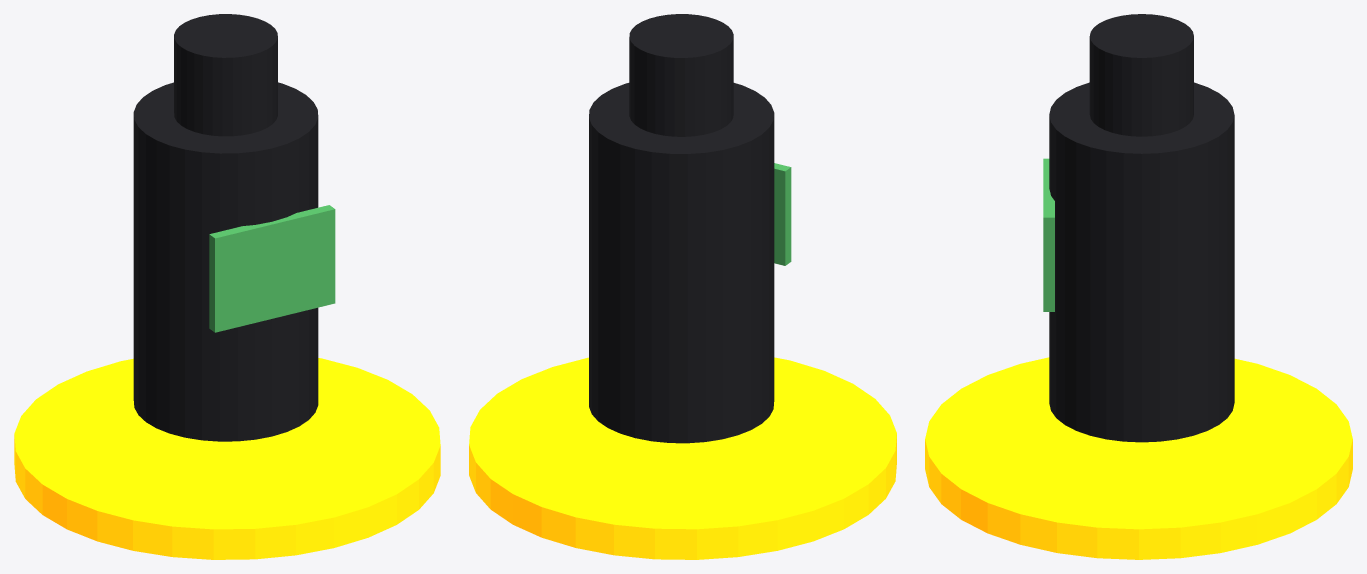
Rendered from fitness_shaker_bottle.glb.
3 renders of one model, left to right at view 1: azimuth 30°, elevation 25°; view 2: azimuth 150°, elevation 25°; view 3: azimuth 270°, elevation 25°, orthographic.
Visible parts, largest first — view 1: 02_03_Popular_Fitness_Shaker_Bottle_ROOT_base, 02_03_Popular_Fitness_Shaker_Bottle_part_01, 02_03_Popular_Fitness_Shaker_Bottle_part_03, 02_03_Popular_Fitness_Shaker_Bottle_part_02; view 2: 02_03_Popular_Fitness_Shaker_Bottle_part_01, 02_03_Popular_Fitness_Shaker_Bottle_ROOT_base, 02_03_Popular_Fitness_Shaker_Bottle_part_02, 02_03_Popular_Fitness_Shaker_Bottle_part_03; view 3: 02_03_Popular_Fitness_Shaker_Bottle_part_01, 02_03_Popular_Fitness_Shaker_Bottle_ROOT_base, 02_03_Popular_Fitness_Shaker_Bottle_part_02, 02_03_Popular_Fitness_Shaker_Bottle_part_03.
Boxes of the visible parts, box(x1,y1,x2,y2) form: 02_03_Popular_Fitness_Shaker_Bottle_ROOT_base: box(14, 358, 440, 559); 02_03_Popular_Fitness_Shaker_Bottle_part_01: box(133, 82, 318, 441); 02_03_Popular_Fitness_Shaker_Bottle_part_03: box(209, 205, 335, 332); 02_03_Popular_Fitness_Shaker_Bottle_part_02: box(174, 14, 277, 136); 02_03_Popular_Fitness_Shaker_Bottle_part_01: box(589, 83, 774, 443); 02_03_Popular_Fitness_Shaker_Bottle_ROOT_base: box(469, 357, 896, 559); 02_03_Popular_Fitness_Shaker_Bottle_part_02: box(629, 14, 733, 136); 02_03_Popular_Fitness_Shaker_Bottle_part_03: box(774, 163, 791, 265); 02_03_Popular_Fitness_Shaker_Bottle_part_01: box(1049, 82, 1234, 442); 02_03_Popular_Fitness_Shaker_Bottle_ROOT_base: box(925, 357, 1352, 559); 02_03_Popular_Fitness_Shaker_Bottle_part_02: box(1089, 14, 1193, 136); 02_03_Popular_Fitness_Shaker_Bottle_part_03: box(1043, 158, 1054, 311).
Size of the model in its own units: 0.76 by 0.85 by 0.76.
